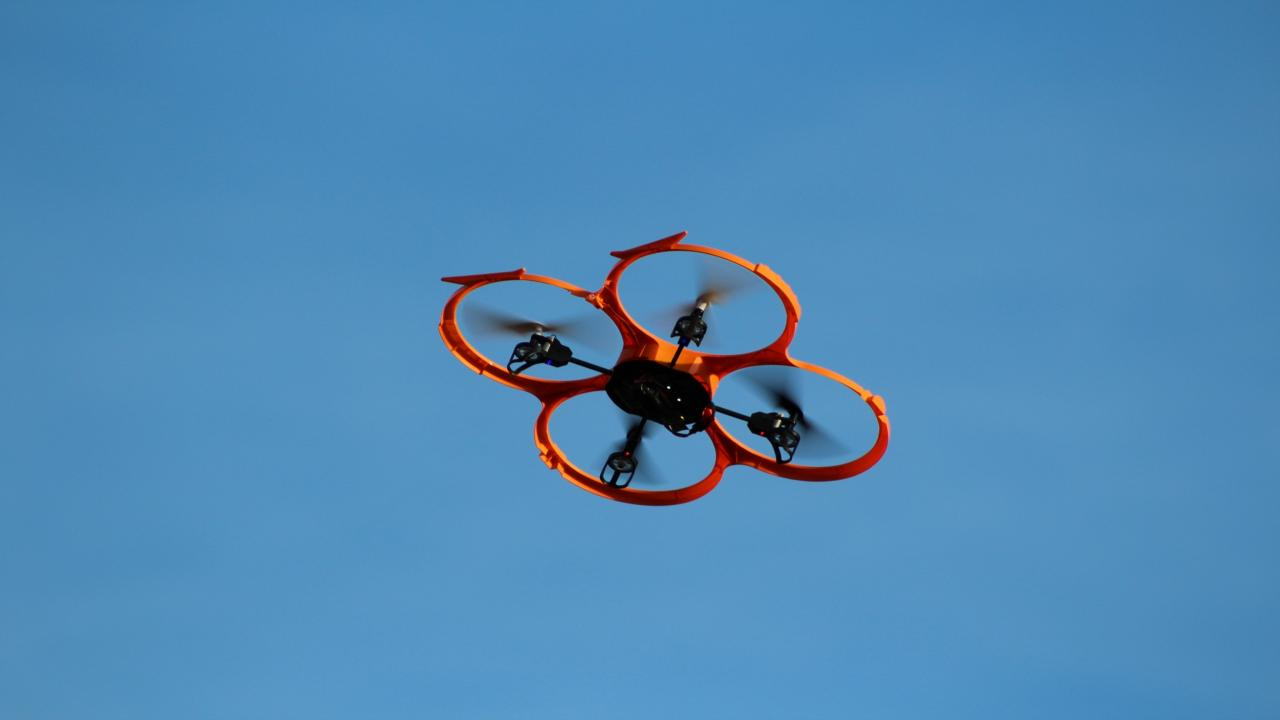Drone: (413, 213, 914, 524)
